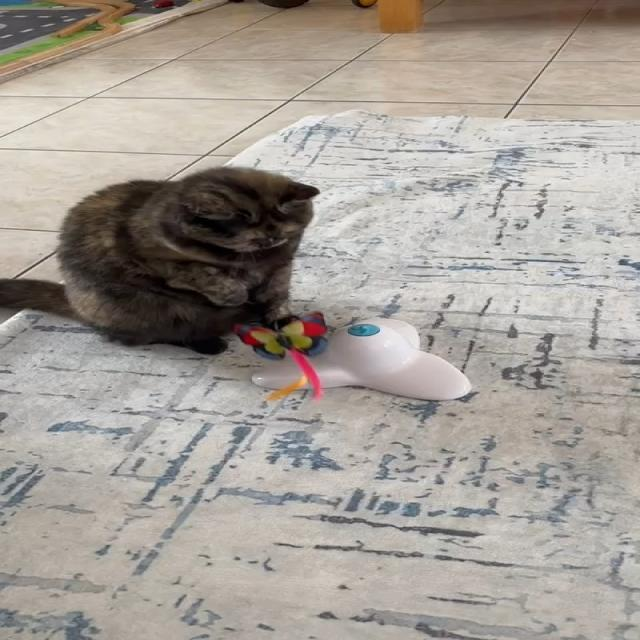authorized: (0, 164, 320, 356)
